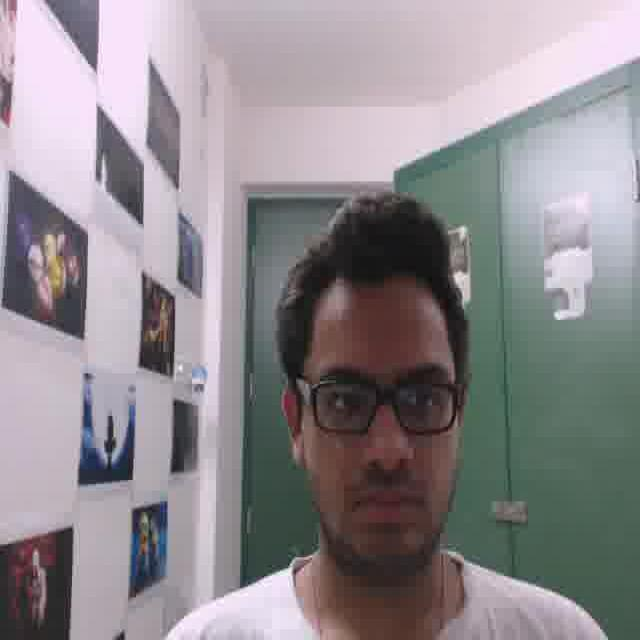Boredom: (297, 302, 458, 570)
